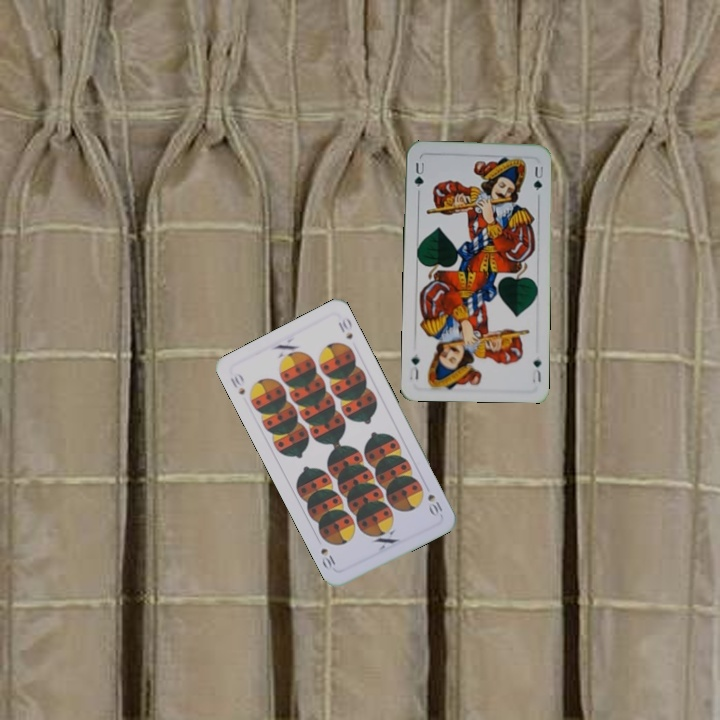GU: (410, 158, 427, 189), (528, 355, 543, 387)
S10: (423, 490, 445, 519), (226, 369, 248, 398)
